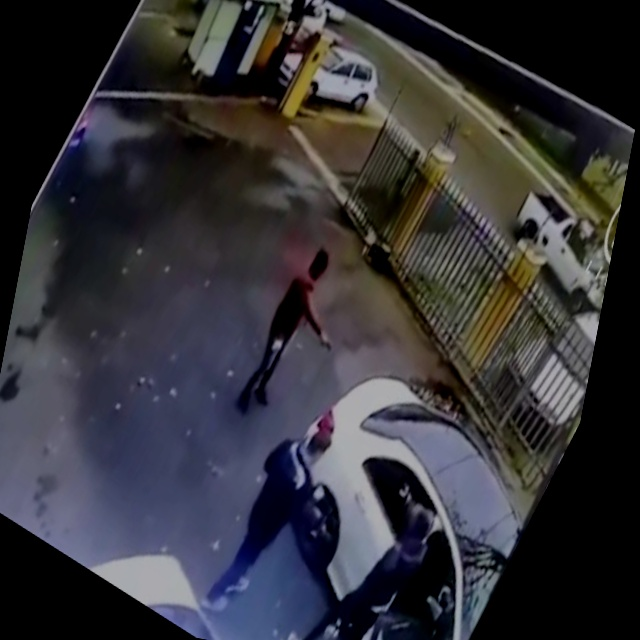gun: (314, 331, 340, 359)
